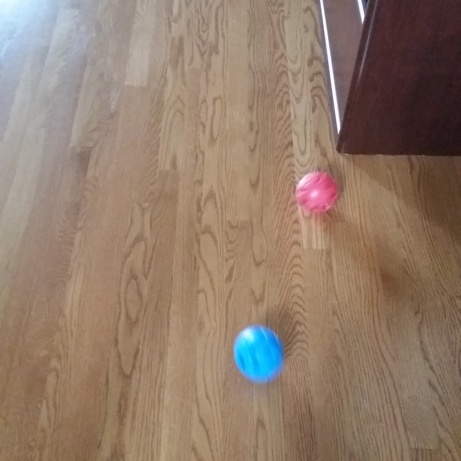ball: (229, 321, 289, 385), (293, 168, 340, 214)
